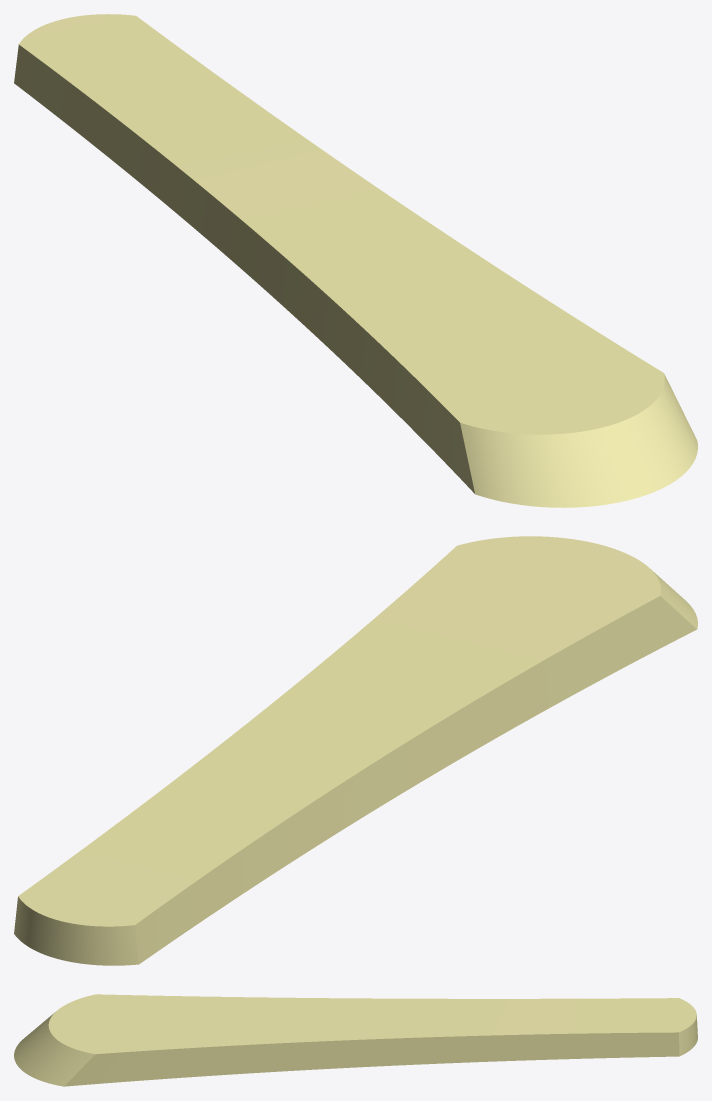
File: original-14.obj
3 renders of one model, top to bottom at view 1: azimuth 30°, elevation 25°; view 2: azimuth 150°, elevation 25°; view 3: azimuth 270°, elevation 25°, orthographic. The views are drawn at different scales.
Visible parts, largest first — view 1: group_2/ID122#ID122; view 2: group_2/ID122#ID122; view 3: group_2/ID122#ID122.
Boxes of the visible parts, x1=… form: group_2/ID122#ID122: x1=14, y1=14, x2=697, y2=507; group_2/ID122#ID122: x1=14, y1=536, x2=697, y2=965; group_2/ID122#ID122: x1=14, y1=994, x2=697, y2=1086.
Bounding box in the file's own units: 0.3887 × 0.1124 × 1.72.
